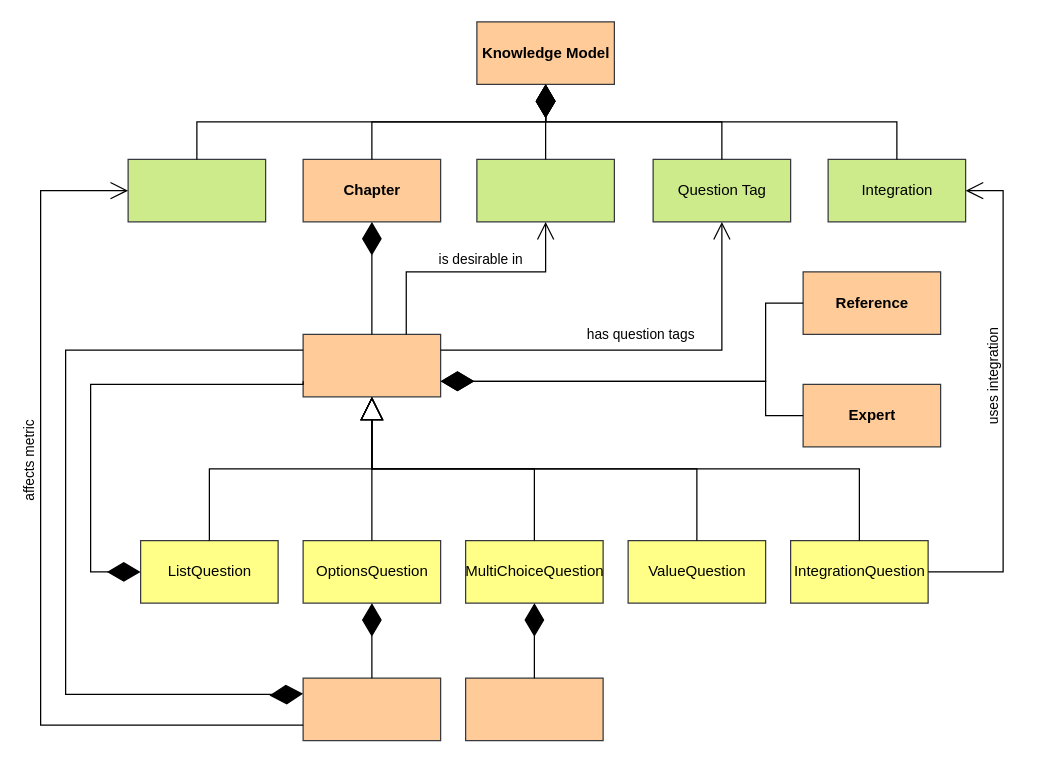
Image size: 1043x765. Some labels were removed from this diagram. Here are the shapes that lost their labels. From the top down, the centre of each, then its label:
pixel 196 190: Metric
pixel 545 190: Phase
pixel 371 365: Question
pixel 371 709: Answer
pixel 533 709: Choice
